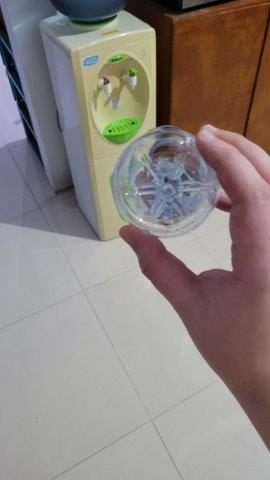botolplastik: (109, 125, 223, 239)
